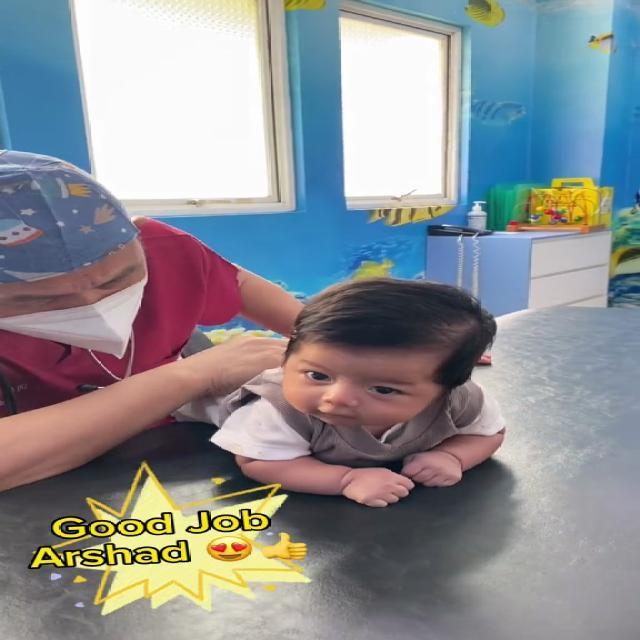baby: (150, 275, 554, 516)
